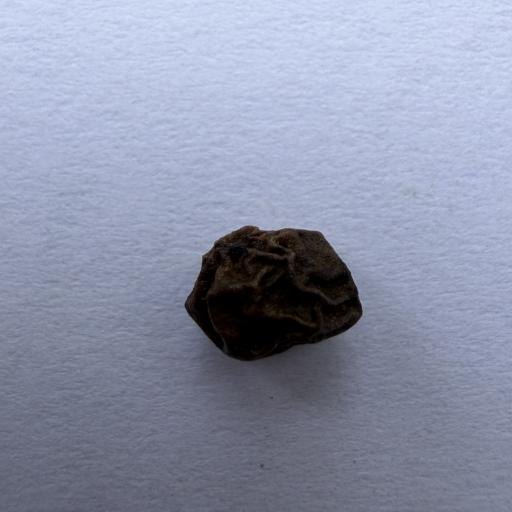Black_pepper: (165, 208, 387, 384)
